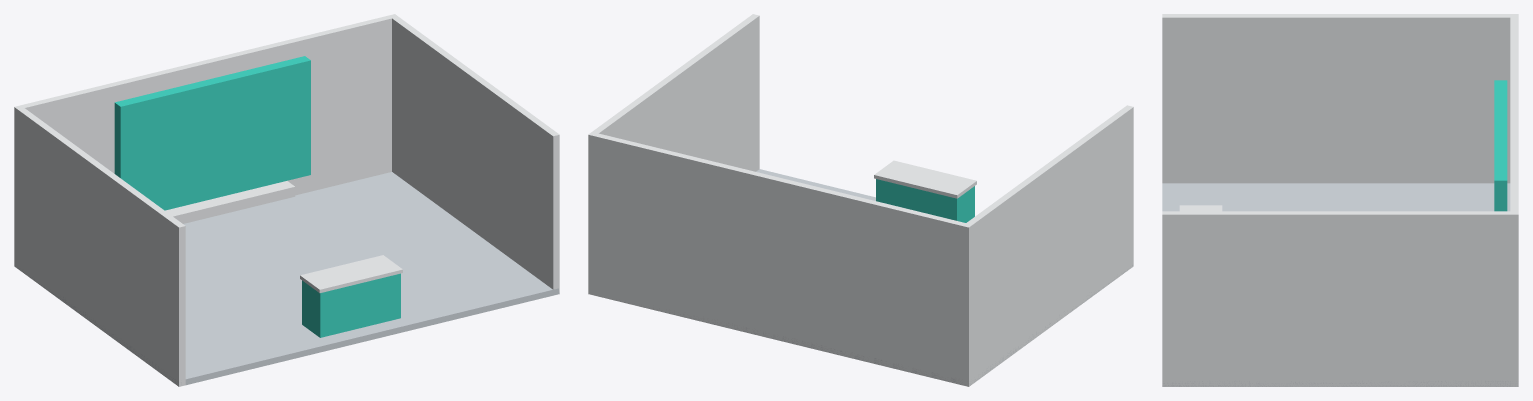
3 views of the same model, side by side, from view 1: azimuth 30°, elevation 25°; view 2: azimuth 150°, elevation 25°; view 3: azimuth 270°, elevation 25° (orthographic). The views are drawn at different scales.
Visible parts, largest first — view 1: Exhibition Booth Concept; view 2: Exhibition Booth Concept; view 3: Exhibition Booth Concept.
Boxes of the visible parts, x1=… form: Exhibition Booth Concept: x1=14, y1=14, x2=559, y2=386; Exhibition Booth Concept: x1=588, y1=14, x2=1133, y2=386; Exhibition Booth Concept: x1=1162, y1=14, x2=1518, y2=386.
Bounding box in the file's own units: 8 × 3.2 × 6.
